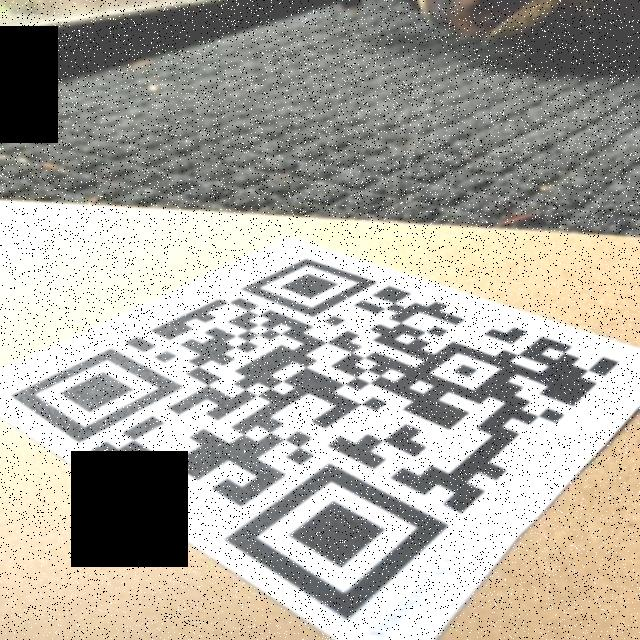QR_CODE: (4, 252, 630, 630)
